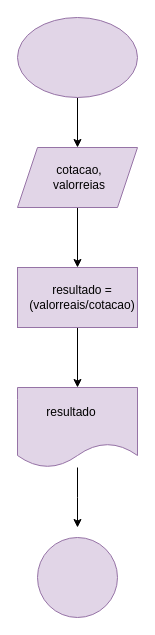
Image size: 155x635. Some labels were removed from this diagram. Here are the shapes that lost their labels. From the top down, the box of each, then its label:
(16, 16, 138, 98): inicio
(36, 536, 118, 618): fim
